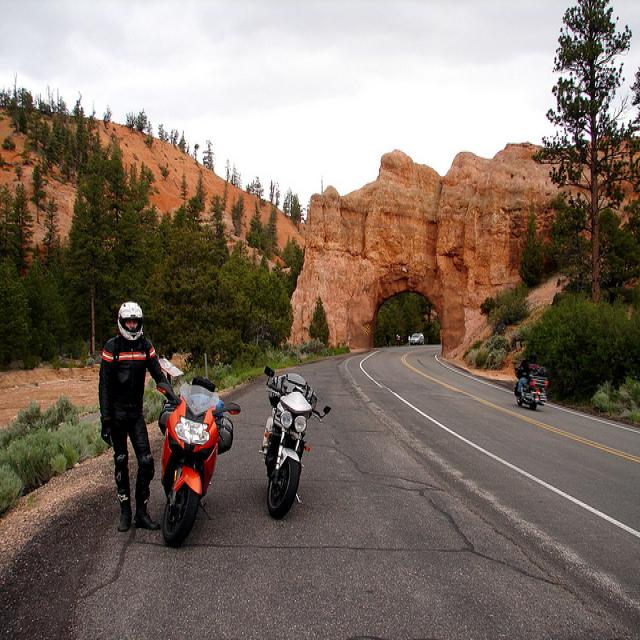motor: (156, 381, 242, 546), (256, 364, 334, 518), (517, 367, 550, 410)
